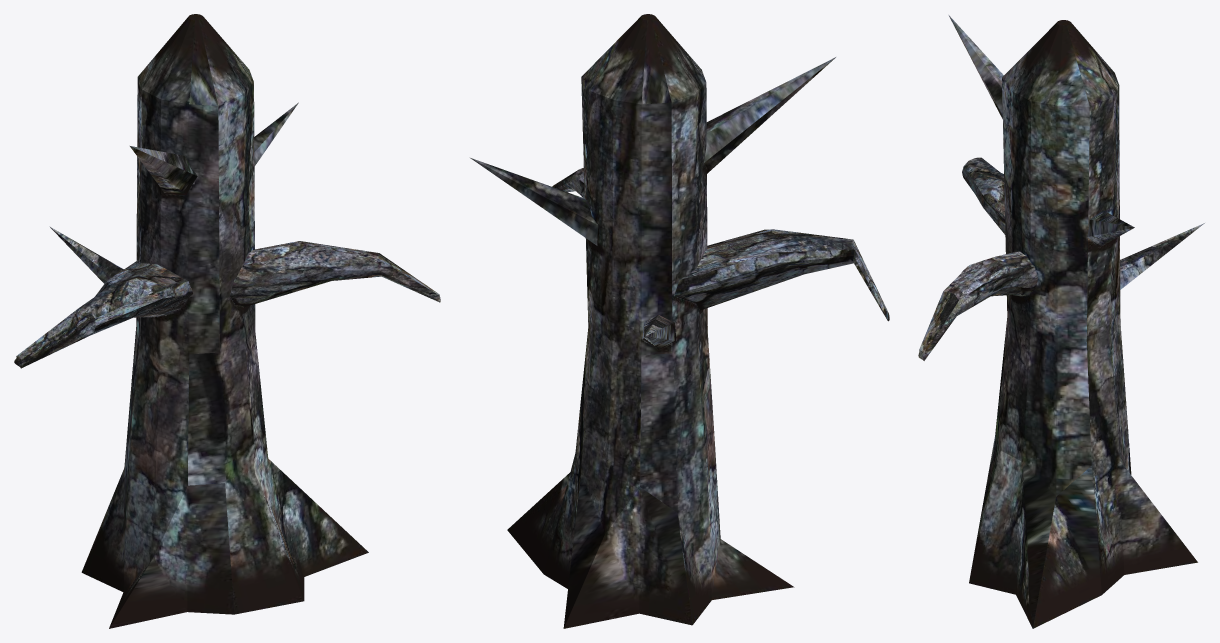
File: Tree 3.fbx
3 views of the same model, side by side, from view 1: azimuth 30°, elevation 25°; view 2: azimuth 150°, elevation 25°; view 3: azimuth 270°, elevation 25° (orthographic). The views are drawn at different scales.
Parts seen in each view (by area): view 1: Cone.006; view 2: Cone.006; view 3: Cone.006.
Boxes of the visible parts, <box> form: Cone.006: <box>14,14,440,628</box>; Cone.006: <box>470,14,889,628</box>; Cone.006: <box>918,15,1204,628</box>.
Bounding box in the file's own units: 791 × 1112 × 543.
